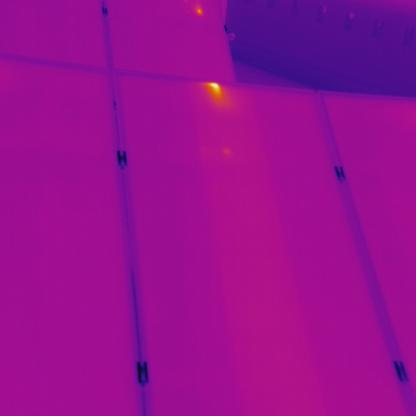hotspot: (200, 80, 232, 102)
